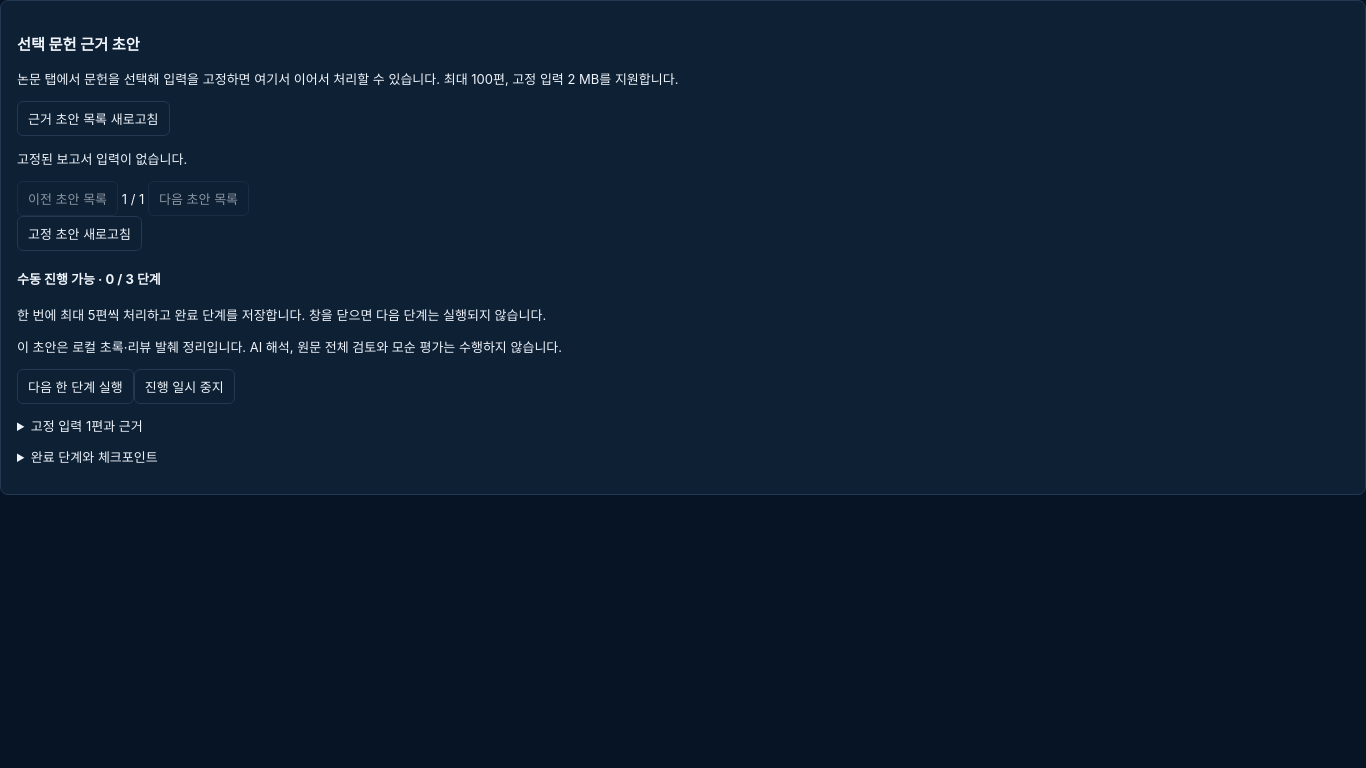
Test: loads frozen input without executing and retries the same lost-response checkpoint
This screenshot has width=1366, height=768.
Expected: the heading "수동 진행 가능 · 0 / 3 단계" is shown, [17,271,161,287]
Click the button "다음 한 단계 실행" at (75, 386), box [17,369,134,404]
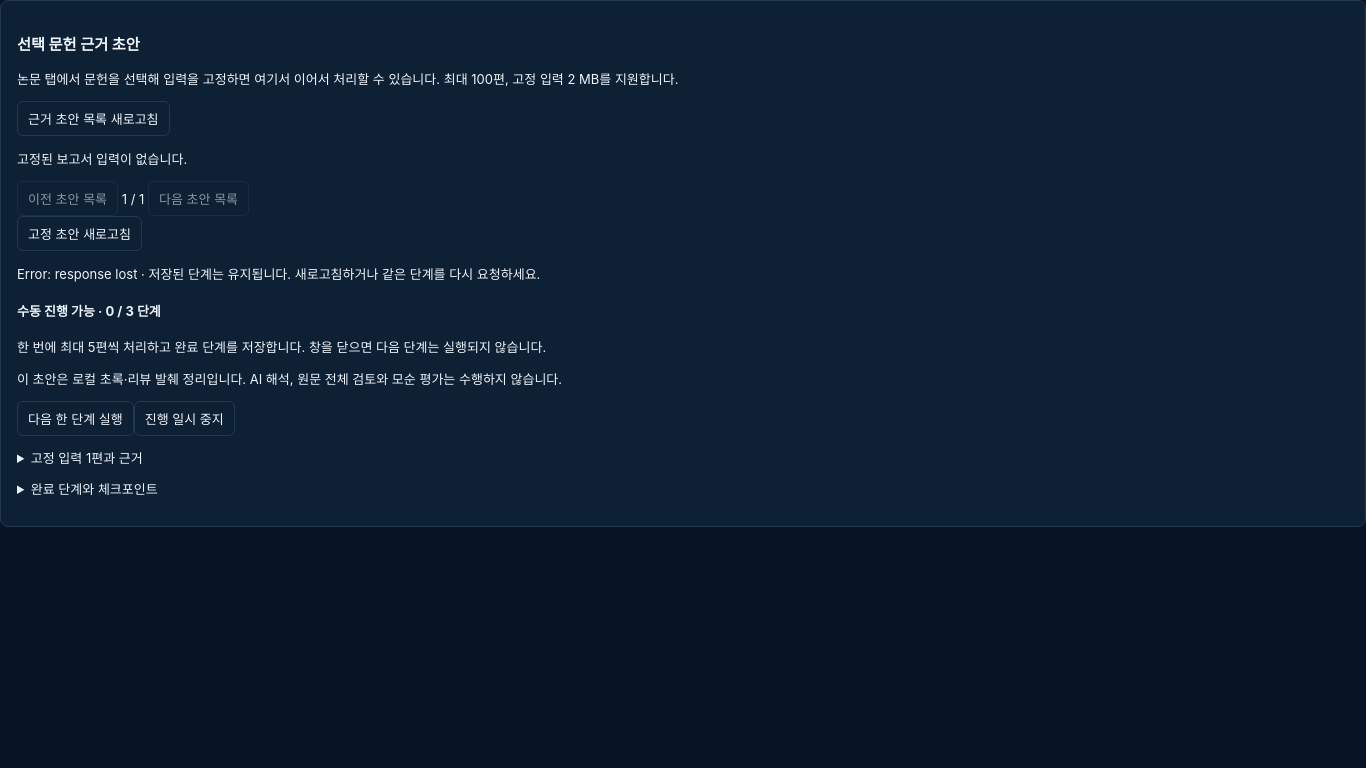
Now the message "Error: response lost · 저장된 단계는 유지됩니다. 새로고침하거나 같은 단계를 다시 요청하세요." is shown, box [17,266,540,282]
Click the button "다음 한 단계 실행" at (75, 418), box [17,401,134,436]
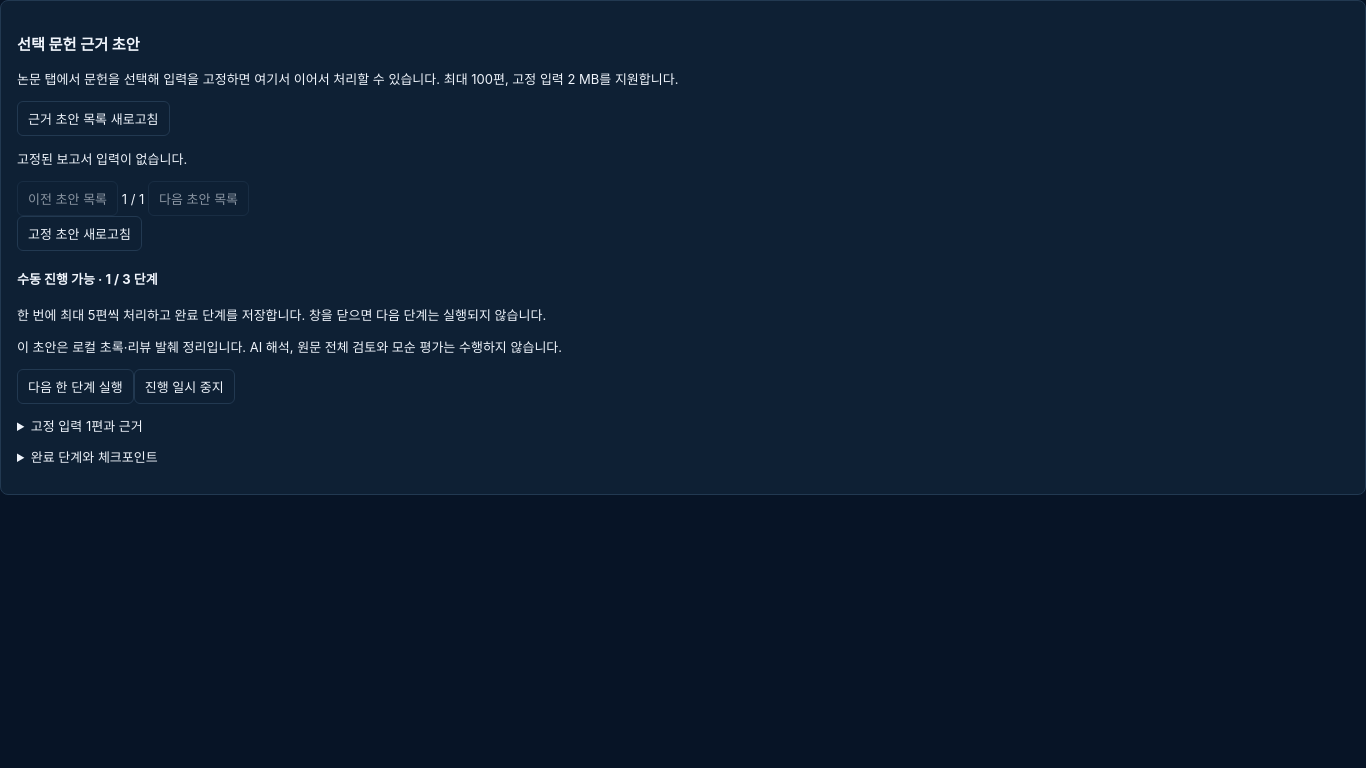
Now the heading "수동 진행 가능 · 1 / 3 단계" is shown, box [17,271,158,287]
